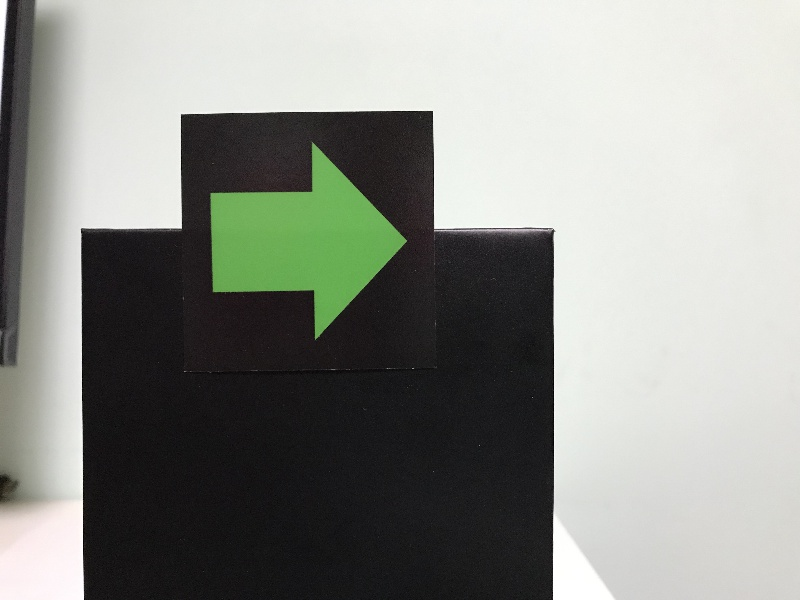RA-3: (186, 116, 431, 364)
